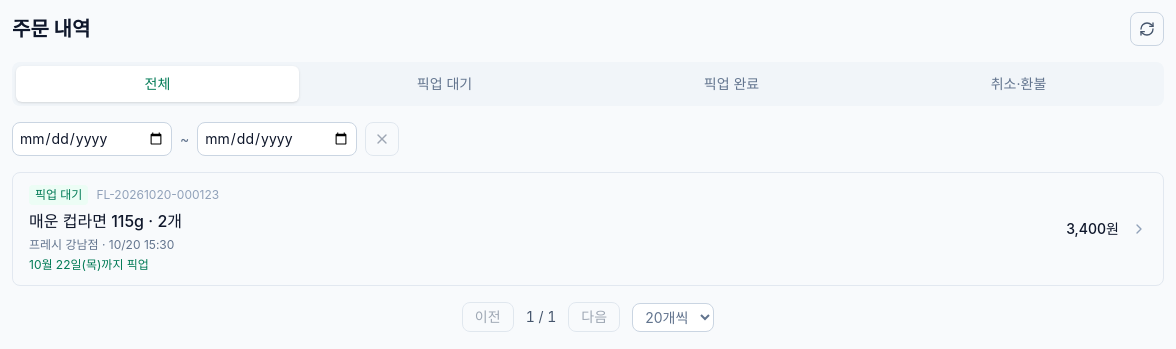
Test: 고객 주문 내역 (A3) › [새로 고침]을 누르면 다시 읽고, 실패하면 오류 문구를 보여 준다
Expected: the text "FL-20261020-000123" is shown, [96,187,219,203]
Step 1. Click the button named "새로 고침" → (1147, 29), box [1130,12,1164,46]
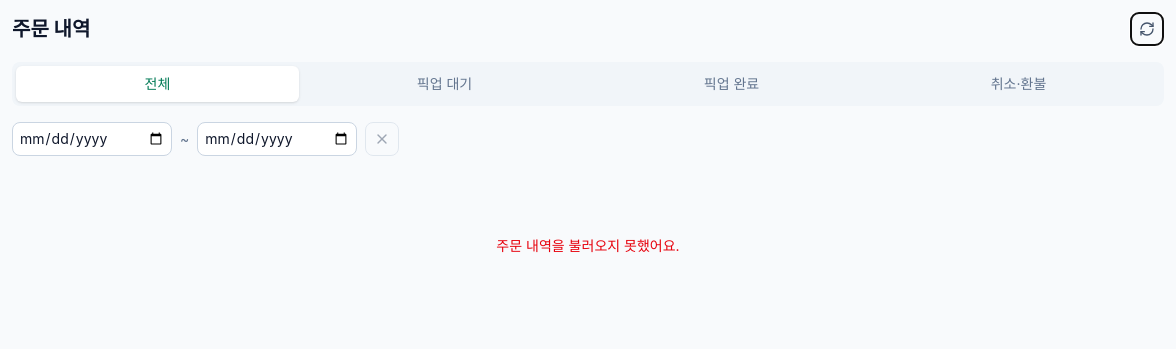
Expected: the text "주문 내역을 불러오지 못했어요." is shown, [496,237,680,254]
